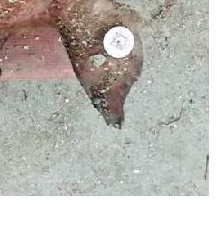text: (91, 18, 145, 71)
